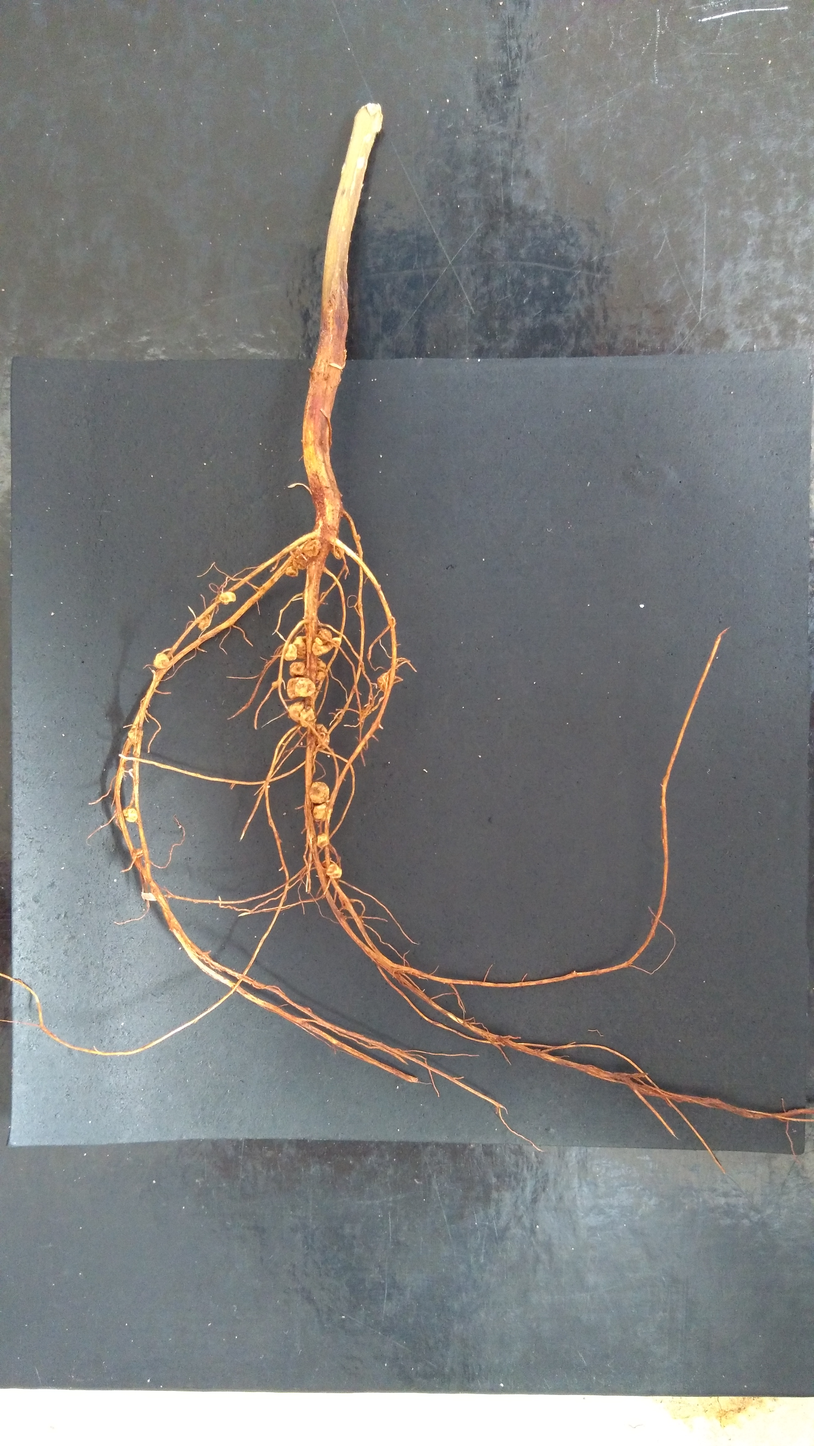nodule: (285, 676, 317, 701), (310, 636, 342, 657), (308, 779, 331, 805), (312, 722, 331, 750), (297, 705, 316, 729), (287, 700, 305, 725), (309, 803, 331, 823), (151, 652, 173, 671), (301, 539, 323, 558), (292, 635, 307, 661), (287, 661, 309, 677), (376, 671, 391, 693), (217, 590, 237, 606), (316, 627, 334, 644), (325, 863, 343, 880), (121, 807, 139, 824), (329, 542, 345, 561), (293, 551, 309, 569), (197, 612, 212, 631), (283, 643, 298, 661), (314, 833, 331, 848), (284, 565, 300, 579), (316, 657, 328, 673), (315, 670, 326, 682), (313, 637, 323, 647), (271, 680, 279, 689)
